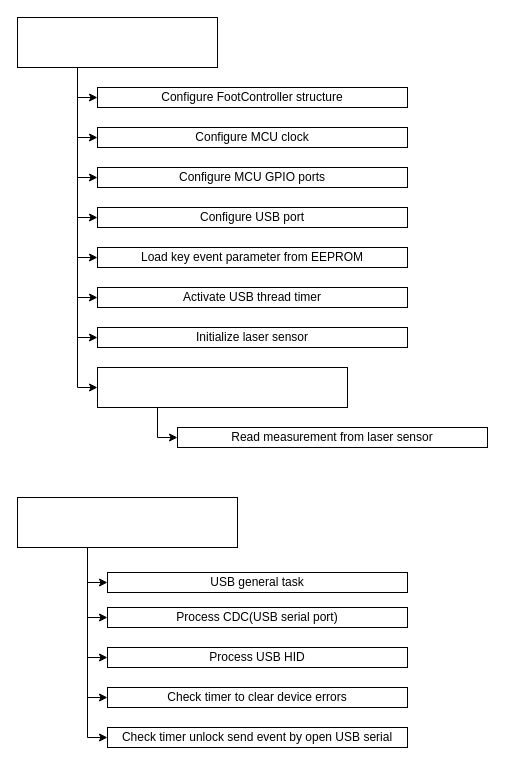
Image size: 505x765. Some labels were removed from this diagram. Each missing label, with the centre of its shape:
"Infinite loop:" goes at [222,387].
"main:" goes at [117,42].
"USB thread timer (TIMER16_0_IRQHandler() called every 83.5us):" goes at [127,522].
